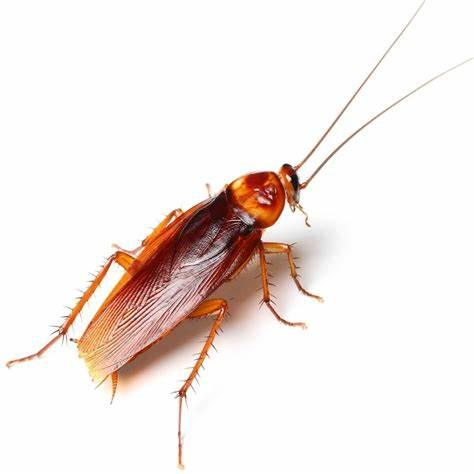cockroach: (72, 159, 316, 409)
